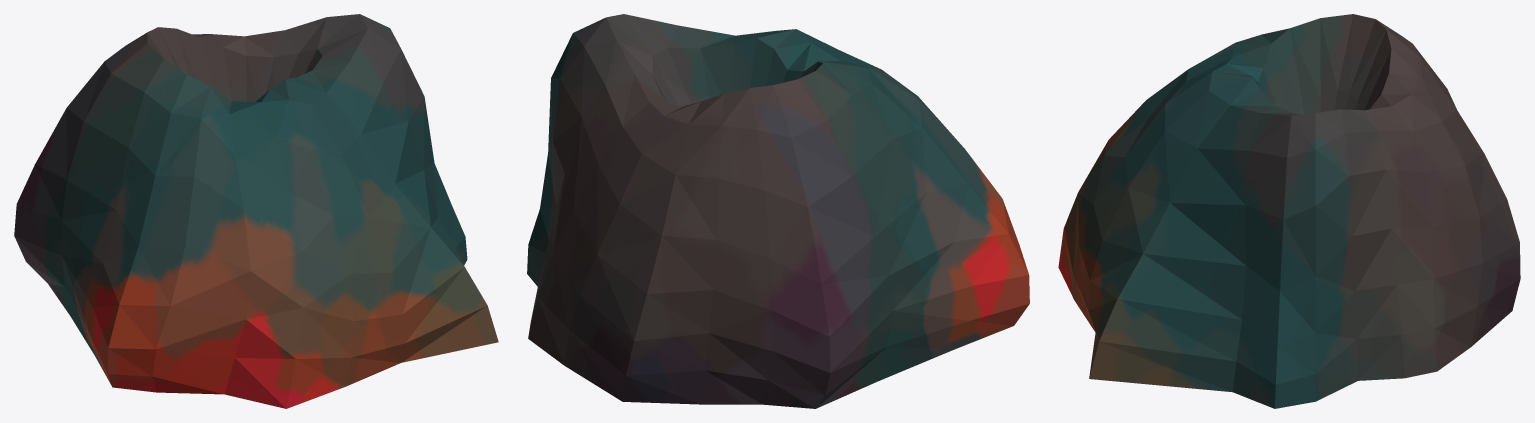
The model's file is geyser_01.fbx.
3 views of the same model, side by side, from view 1: azimuth 30°, elevation 25°; view 2: azimuth 150°, elevation 25°; view 3: azimuth 270°, elevation 25° (orthographic). The views are drawn at different scales.
Visible parts, largest first — view 1: polySurface_geyser1; view 2: polySurface_geyser1; view 3: polySurface_geyser1.
Boxes of the visible parts, bbox=[...] form: polySurface_geyser1: bbox=[14, 14, 498, 408]; polySurface_geyser1: bbox=[527, 14, 1029, 408]; polySurface_geyser1: bbox=[1058, 14, 1520, 408].
Size of the model in its own units: 3.56 by 2.14 by 3.49.
